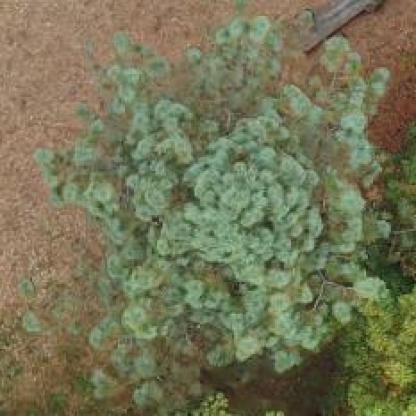Coniferous Tree: (29, 20, 399, 384)
